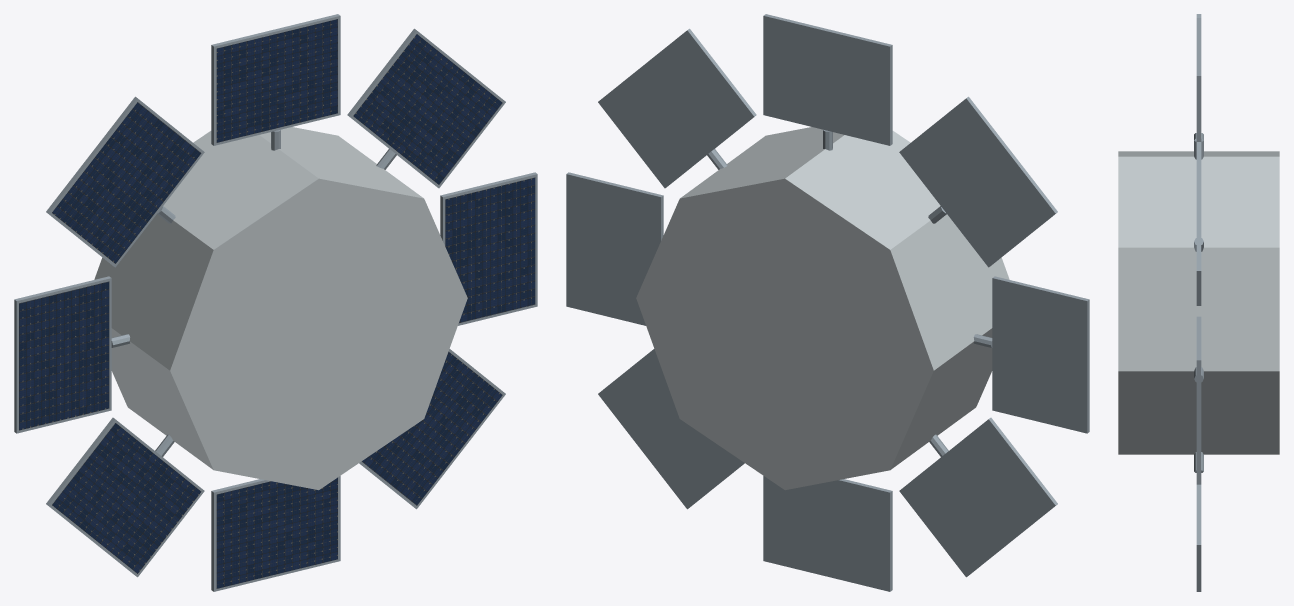
Rendered from ref-lizziesat-59132.glb.
The picture shows the model from 3 angles, left to right: view 1: azimuth 30°, elevation 25°; view 2: azimuth 150°, elevation 25°; view 3: azimuth 270°, elevation 25°; orthographic projection. The views are drawn at different scales.
Visible parts, largest first — view 1: Spacecraft body, Photovoltaic laminates (×8), Array frame (×8); view 2: Array frame (×8), Spacecraft body; view 3: Spacecraft body, Array frame (×4).
Part boxes in pixels (box(x1,y1,x2,y2)): Spacecraft body: box(94, 127, 467, 490); Photovoltaic laminates (×8): box(19, 19, 535, 588); Array frame (×8): box(14, 14, 537, 591); Array frame (×8): box(566, 14, 1089, 591); Spacecraft body: box(636, 127, 1009, 490); Spacecraft body: box(1118, 151, 1279, 454); Array frame (×4): box(1196, 18, 1201, 591).
Size of the model in its own units: 1.4 by 1.4 by 0.4.
Materials: 3 (1 with a texture image).
